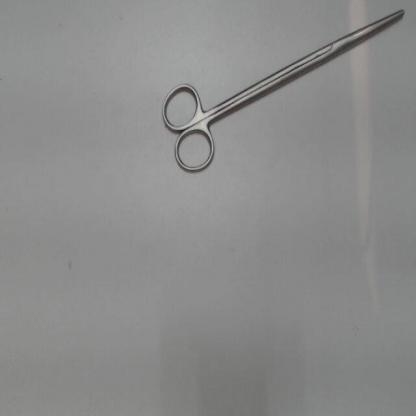9 Metzenbaum Scissors: (152, 4, 410, 180)
